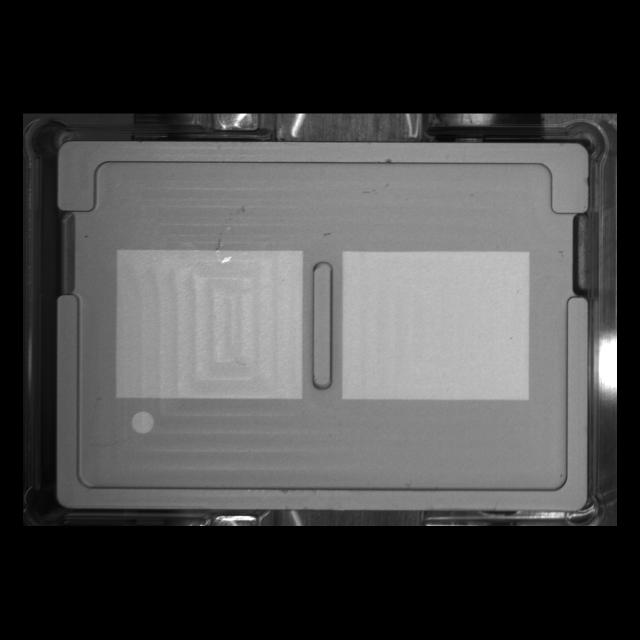door: (42, 130, 602, 228)
point: (126, 407, 159, 440)
